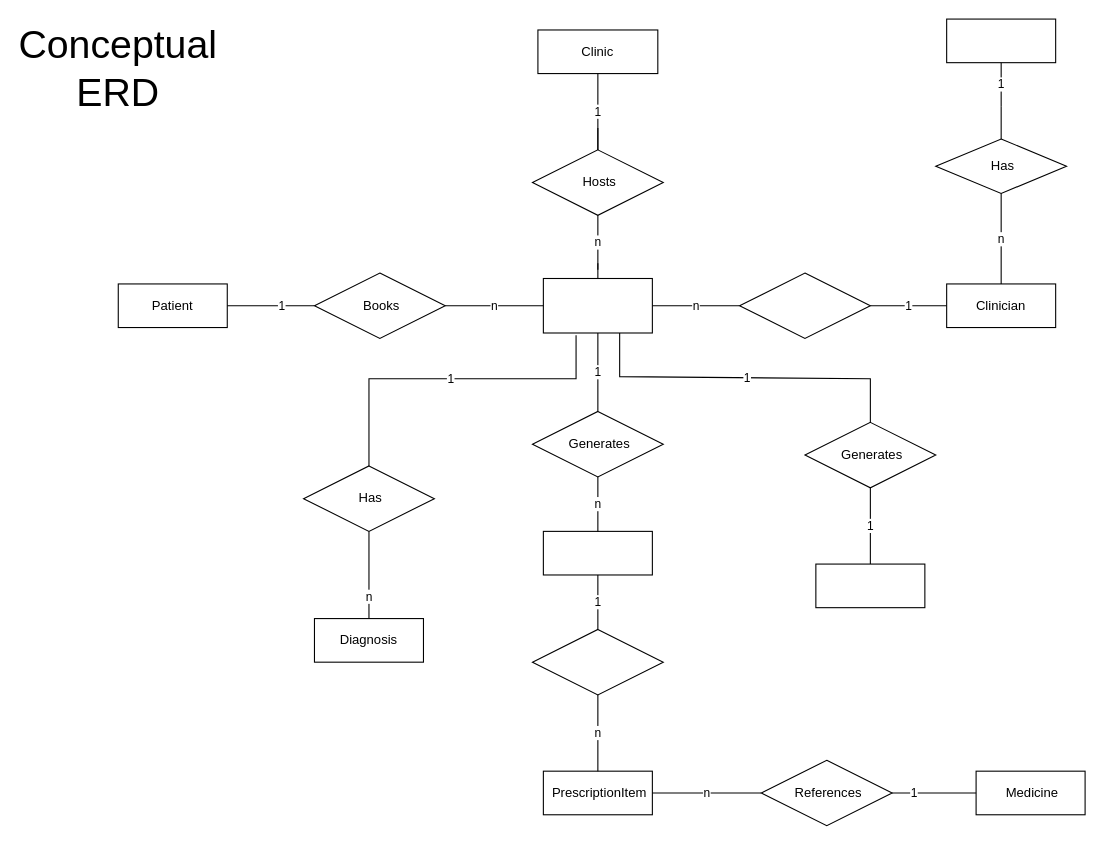
The diagram is 1104 pixels wide and 845 high, and some of its shapes have lost their labels. Each missing label, with the centre of its shape:
"Appointment" goes at [597,305].
"Conducts" goes at [804,305].
"Contains" goes at [597,661].
"FollowUpPlan" goes at [870,585].
"Prescription" goes at [597,552].
"Specialty" goes at [1001,40].
